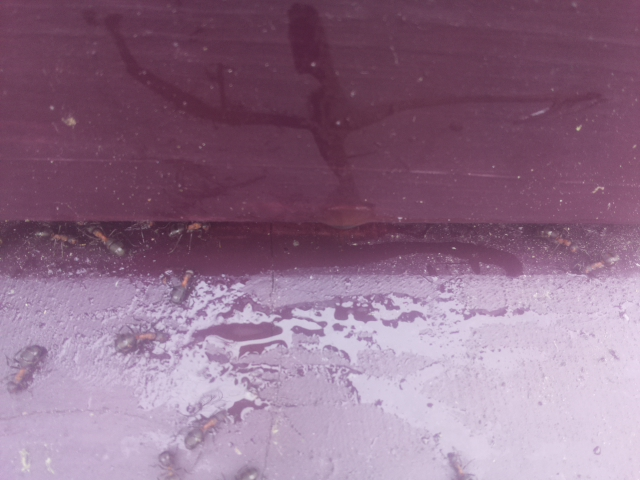ant: (175, 403, 237, 458), (2, 339, 55, 395), (77, 217, 133, 267), (165, 264, 200, 310), (534, 223, 585, 254), (27, 226, 85, 252), (438, 447, 480, 480), (164, 217, 213, 244), (116, 327, 163, 354)
